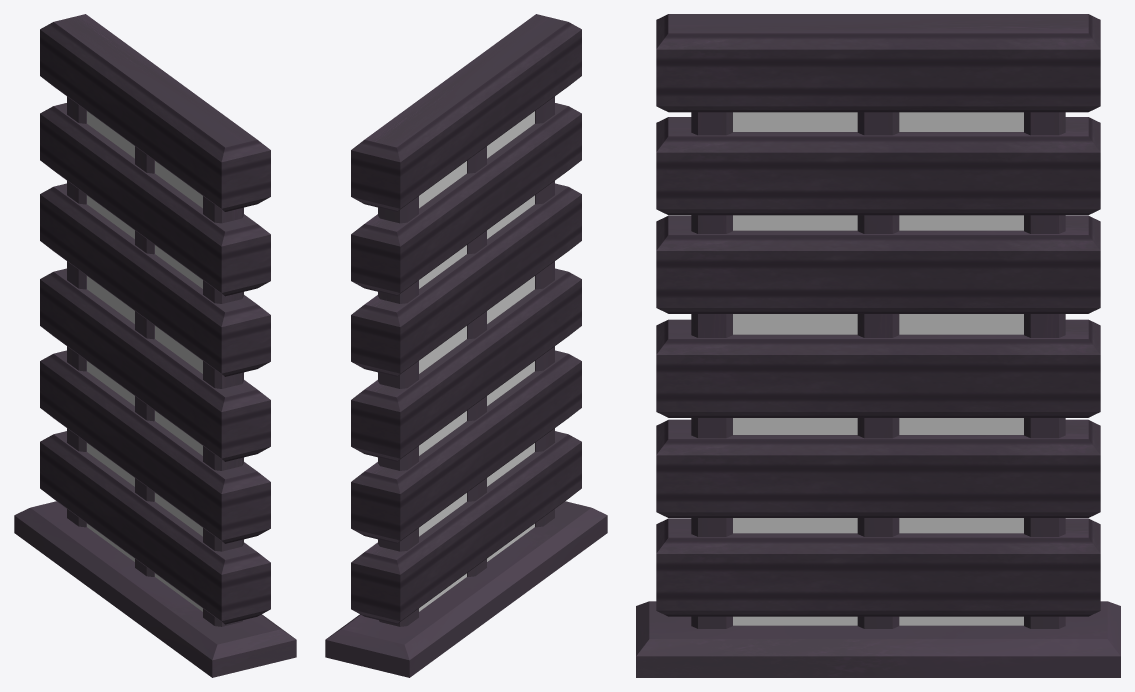
File: PRM Blockade.fbx
3 renders of one model, left to right at view 1: azimuth 30°, elevation 25°; view 2: azimuth 150°, elevation 25°; view 3: azimuth 270°, elevation 25°, orthographic. The views are drawn at different scales.
Visible parts, largest first — view 1: Blockade; view 2: Blockade; view 3: Blockade.
Boxes of the visible parts, x1,y1,x2,y2 form: Blockade: (14,14,296,677); Blockade: (325,14,607,677); Blockade: (636,14,1120,677).
Size of the model in its own units: 495 by 2881 by 2011.
